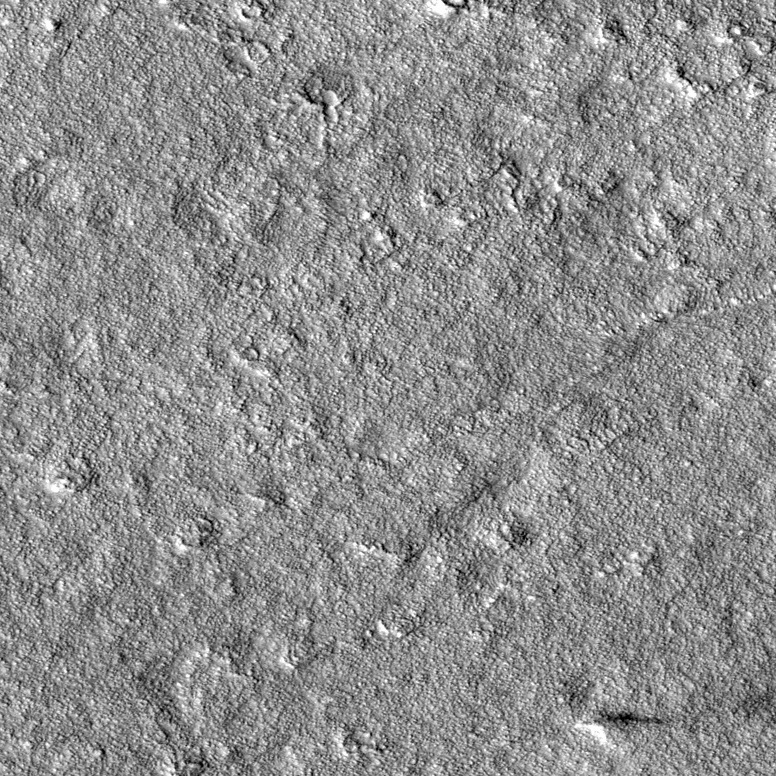dust_devil: (571, 712, 666, 753)
